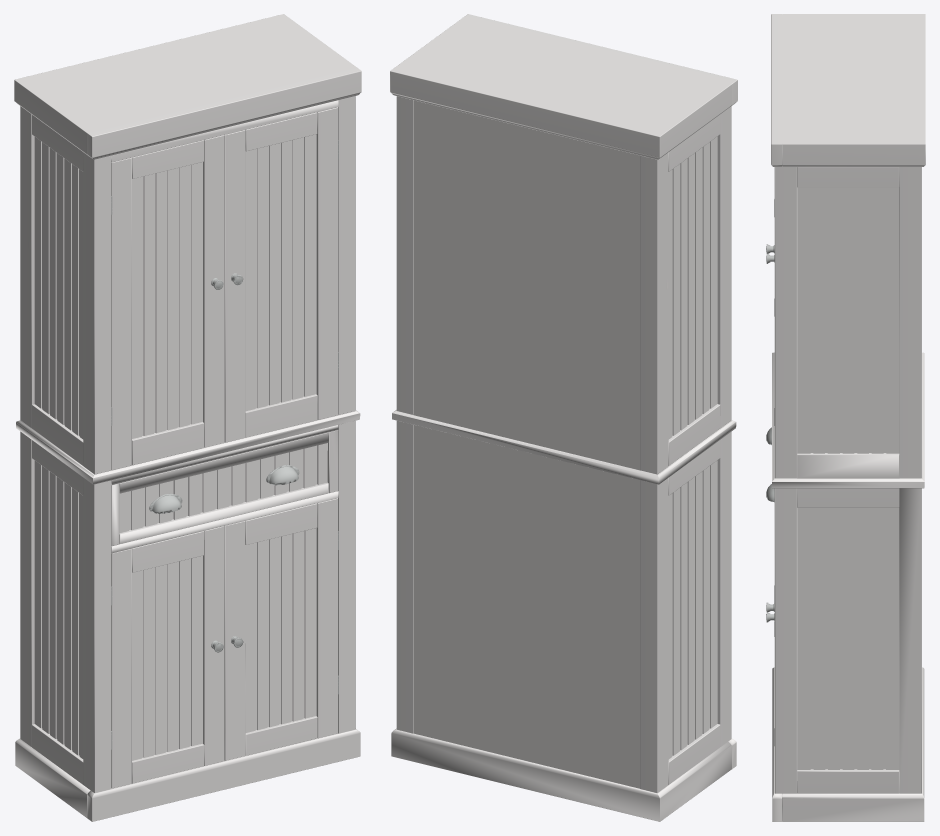
File: B07DMB75TJ.glb
3 views of the same model, side by side, from view 1: azimuth 30°, elevation 25°; view 2: azimuth 150°, elevation 25°; view 3: azimuth 270°, elevation 25° (orthographic).
Parts seen in each view (by area): view 1: RootNode; view 2: RootNode; view 3: RootNode.
Boxes of the visible parts, bbox=[...] form: RootNode: bbox=[14, 14, 361, 821]; RootNode: bbox=[390, 14, 737, 821]; RootNode: bbox=[766, 14, 925, 821].
Bounding box in the file's own units: 0.7535 × 1.83 × 0.39.
1 material, 1 textured.
